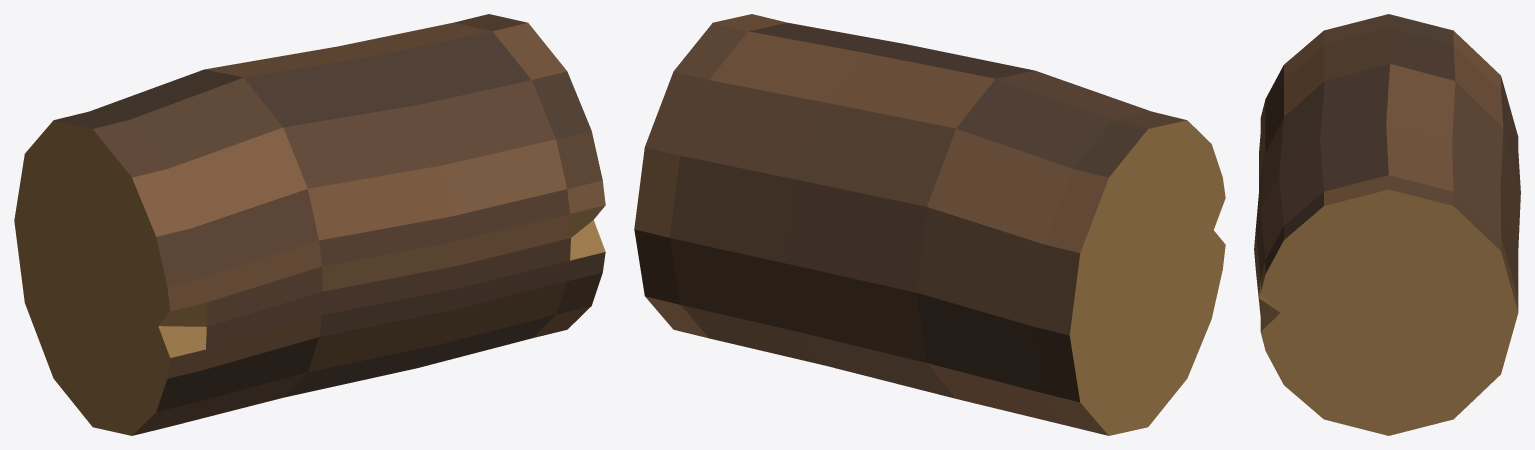
The model's file is rootfall-center.glb.
3 views of the same model, side by side, from view 1: azimuth 30°, elevation 25°; view 2: azimuth 150°, elevation 25°; view 3: azimuth 270°, elevation 25° (orthographic). The views are drawn at different scales.
Parts seen in each view (by area): view 1: rootfall-center; view 2: rootfall-center; view 3: rootfall-center.
Part boxes in pixels (left/top/right/bottom): rootfall-center: left=14, top=14, right=605, bottom=435; rootfall-center: left=634, top=14, right=1225, bottom=435; rootfall-center: left=1254, top=14, right=1520, bottom=435.
Bounding box in the file's own units: 3.3 × 2.26 × 2.12.
1 material, 1 textured.
